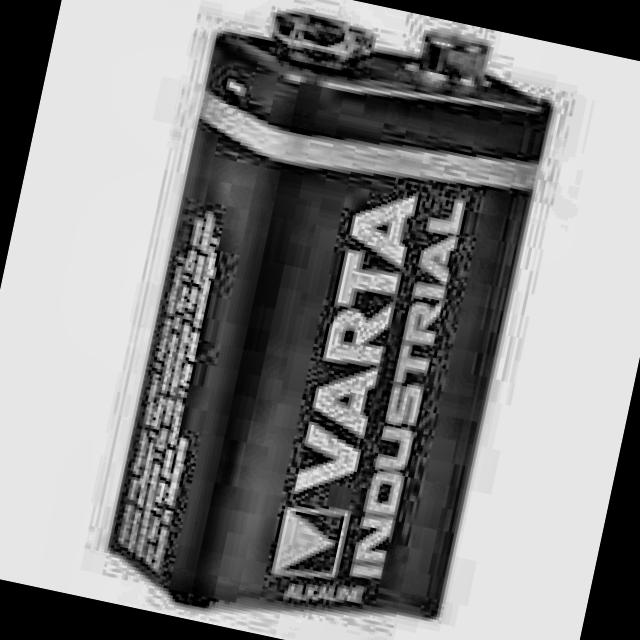Battery: (104, 0, 556, 640)
